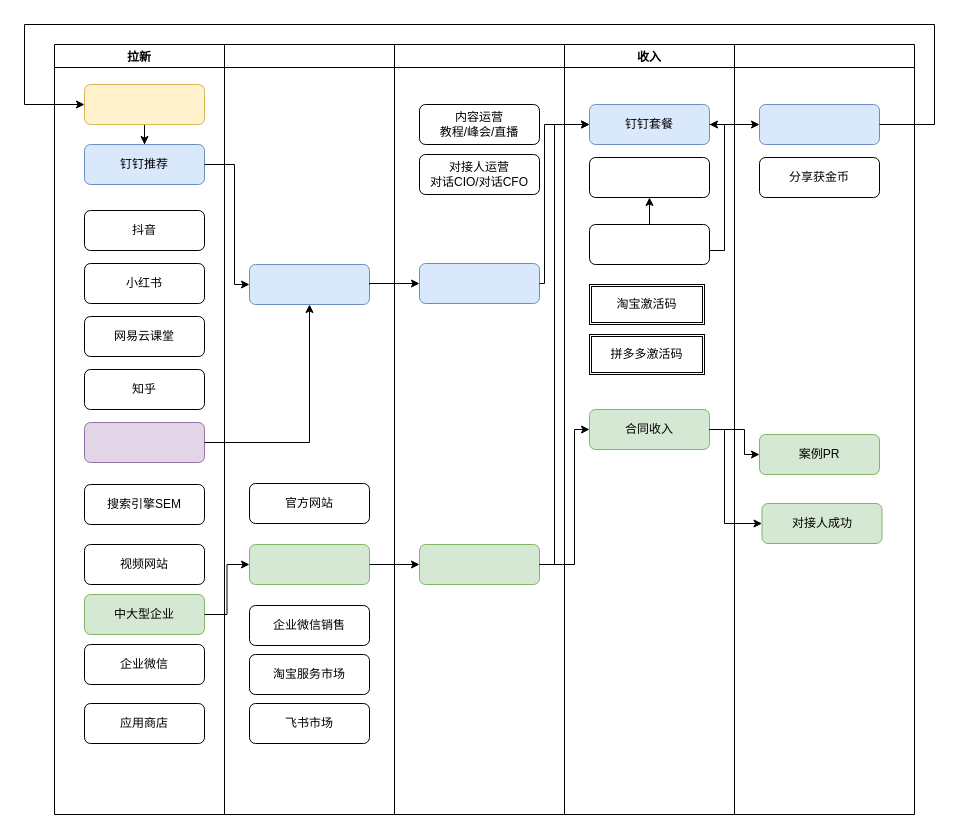
Image size: 960x832. Some labels were removed from this diagram. The shapes that lost their labels are listed below. From the top down, each one's box as (x1, y1, x2, y2) in pixels, then its label:
(84, 84, 204, 124): H5裂变
(758, 104, 880, 144): 分享获钻石
(588, 156, 710, 198): 官网成交 (ping++)
(588, 224, 710, 264): 代理销售 二维码
(248, 264, 370, 304): 钉钉群销售
(418, 262, 540, 304): 钉钉群运营
(84, 422, 204, 462): 代理商
(224, 44, 394, 814): 转化
(394, 44, 564, 814): 留存
(734, 44, 914, 814): 裂变
(248, 544, 370, 584): 销售接触
(418, 544, 540, 584): 客户成功团队
